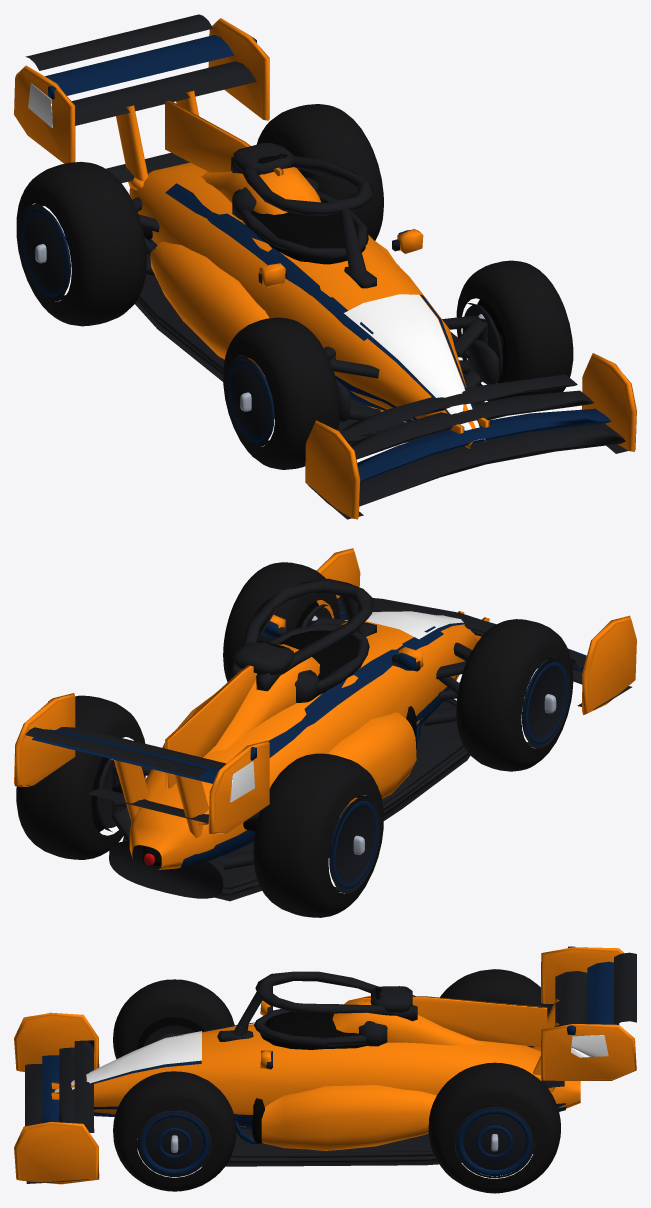
Rendered from car.glb.
3 views of the same model, one above another, from view 1: azimuth 30°, elevation 25°; view 2: azimuth 150°, elevation 25°; view 3: azimuth 270°, elevation 25° (orthographic). The views are drawn at different scales.
Visible parts, largest first — view 1: body-materialpaint, body-materialcarbon, body-materialpaint2, wheel-rear-left-tire, wheel-front-left-tire, wheel-front-right-tire, body-materialwhite, wheel-rear-right-tire, body-materialdark, wheel-rear-left-rim, wheel-front-left-rim, wheel-rear-left-paint2 (+1 smaller); view 2: body-materialpaint, body-materialcarbon, wheel-rear-left-tire, wheel-front-left-tire, wheel-rear-right-tire, body-materialpaint2, wheel-front-right-tire, body-materialdark, wheel-rear-left-rim, wheel-front-left-rim, body-materialwhite, wheel-rear-left-paint2 (+1 smaller); view 3: body-materialpaint, body-materialcarbon, wheel-rear-right-tire, wheel-front-right-tire, wheel-front-left-tire, body-materialpaint2, body-materialwhite, body-materialdark, wheel-rear-right-rim, wheel-front-right-rim, wheel-rear-left-tire, wheel-rear-right-paint2 (+1 smaller).
Boxes of the visible parts, bbox=[...] form: body-materialpaint: bbox=[14, 18, 636, 519]; body-materialcarbon: bbox=[25, 14, 628, 519]; body-materialpaint2: bbox=[45, 35, 611, 481]; wheel-rear-left-tire: bbox=[16, 161, 146, 326]; wheel-front-left-tire: bbox=[223, 317, 340, 469]; wheel-front-right-tire: bbox=[456, 260, 573, 401]; body-materialwhite: bbox=[28, 83, 481, 440]; wheel-rear-right-tire: bbox=[256, 104, 383, 240]; body-materialdark: bbox=[143, 153, 507, 383]; wheel-rear-left-rim: bbox=[19, 203, 69, 301]; wheel-front-left-rim: bbox=[226, 355, 272, 446]; wheel-rear-left-paint2: bbox=[22, 209, 70, 296]; body-materialpaint: bbox=[14, 548, 636, 869]; body-materialcarbon: bbox=[25, 578, 631, 901]; wheel-rear-left-tire: bbox=[253, 753, 383, 917]; wheel-front-left-tire: bbox=[456, 619, 573, 771]; wheel-rear-right-tire: bbox=[16, 695, 145, 859]; body-materialpaint2: bbox=[32, 611, 586, 867]; wheel-front-right-tire: bbox=[223, 562, 339, 681]; body-materialdark: bbox=[91, 601, 416, 866]; wheel-rear-left-rim: bbox=[331, 795, 380, 893]; wheel-front-left-rim: bbox=[523, 657, 570, 748]; body-materialwhite: bbox=[230, 611, 463, 802]; wheel-rear-left-paint2: bbox=[329, 801, 378, 888]; body-materialpaint: bbox=[14, 947, 636, 1184]; body-materialcarbon: bbox=[25, 952, 636, 1183]; wheel-rear-right-tire: bbox=[428, 1062, 560, 1193]; wheel-front-right-tire: bbox=[113, 1071, 236, 1191]; wheel-front-left-tire: bbox=[113, 979, 234, 1058]; body-materialpaint2: bbox=[42, 946, 619, 1143]; body-materialwhite: bbox=[54, 1031, 608, 1092]; body-materialdark: bbox=[137, 987, 533, 1143]; wheel-rear-right-rim: bbox=[454, 1105, 535, 1178]; wheel-front-right-rim: bbox=[137, 1109, 212, 1176]; wheel-rear-left-tire: bbox=[440, 969, 553, 1017]; wheel-rear-right-paint2: bbox=[457, 1109, 531, 1176].
Bounding box in the file's own units: 1.66 × 0.9373 × 3.38.
